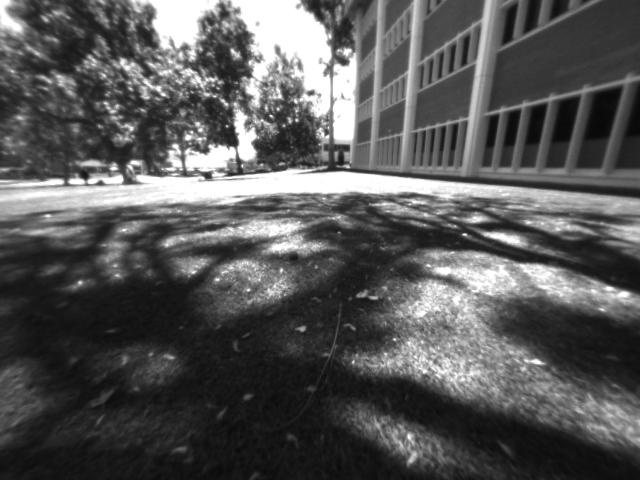dogtoy: (284, 244, 304, 265)
